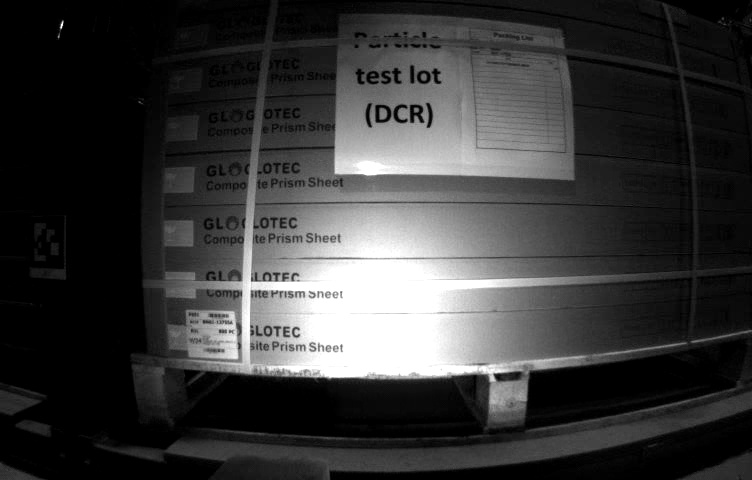True Barcode: (184, 308, 238, 362)
